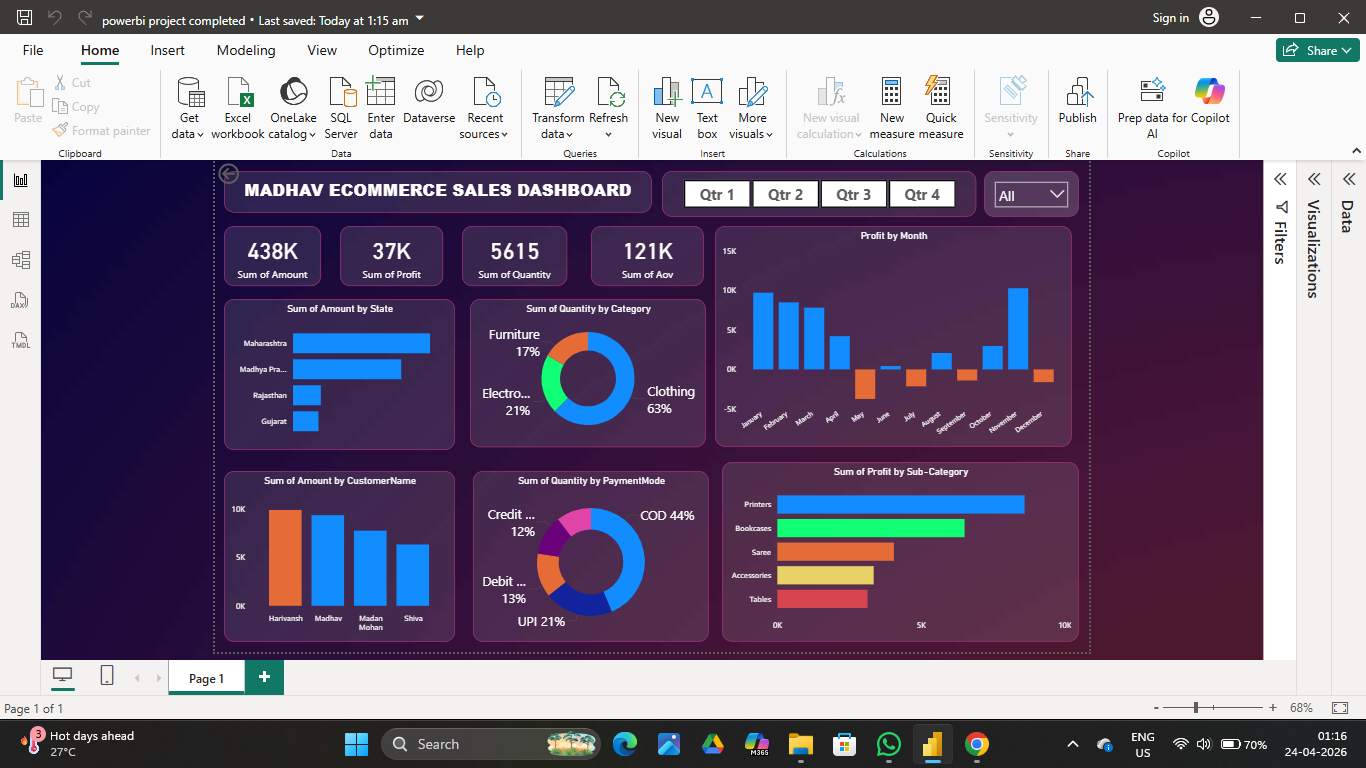

Layout of this report page (visuals, bound fields, positions):
{"tool":"powerbi","page":{"name":"Page 1","canvas":[1280,720],"ordinal":0},"visuals":[{"type":"textbox","box":[13.2,16.1,626.3,61.5],"z":0},{"type":"columnChart","title":"Profit by Month","fields":{"Category":["Orders.Order Date.Variation.Date Hierarchy.Month"],"Y":["Sum(Details.Profit)"]},"box":[732,97,522.1,322.8],"z":1000},{"type":"barChart","fields":{"Category":["Details.Sub-Category"],"Y":["Sum(Details.Profit)"]},"box":[742,442,522.4,263.4],"z":2000},{"type":"donutChart","fields":{"Category":["Details.Category"],"Y":["Sum(Details.Quantity)"]},"box":[373.2,203.4,345.4,216.6],"z":3000},{"type":"donutChart","fields":{"Category":["Details.PaymentMode","Details.Category"],"Y":["Sum(Details.Quantity)"]},"box":[377.6,455.1,345.4,250.2],"z":4000},{"type":"card","fields":{"Values":["Sum(Details.Amount)"]},"box":[13.2,96.6,142,87.8],"z":5000},{"type":"card","fields":{"Values":["Sum(Details.Quantity)"]},"box":[361.5,96.6,153.7,87.8],"z":6000},{"type":"card","fields":{"Values":["Sum(Details.Profit)"]},"box":[182.9,96.6,150.7,87.8],"z":7000},{"type":"card","fields":{"Values":["Sum(Details.Aov)"]},"box":[550.2,96.6,165.4,87.8],"z":8000},{"type":"actionButton","box":[0,0,100,40],"z":9000},{"type":"barChart","fields":{"Category":["Orders.State"],"Y":["Sum(Details.Amount)"]},"box":[13.2,203.4,338,221],"z":10000},{"type":"columnChart","fields":{"Category":["Orders.CustomerName"],"Y":["Sum(Details.Amount)"]},"box":[13.2,455.1,338,250.2],"z":11000},{"type":"slicer","fields":{"Values":["Orders.Order Date.Variation.Date Hierarchy.Quarter"]},"box":[654.1,16.1,459.5,67.3],"z":12000},{"type":"slicer","fields":{"Values":["Orders.State"]},"box":[1125.4,16.1,139,67.3],"z":13000}]}

Visuals, with their boxes on the page's 1280x720 design canvas (x1, y1, x2, y2). These are canvas units, not pixel positions in the 1366x768 screenshot, which may show the page scaled, cropped or inside an application window:
textbox: (x1=13, y1=16, x2=640, y2=78)
"Profit by Month" columnChart: (x1=732, y1=97, x2=1254, y2=420)
barChart - Details.Sub-Category x Sum(Details.Profit): (x1=742, y1=442, x2=1264, y2=705)
donutChart - Details.Category x Sum(Details.Quantity): (x1=373, y1=203, x2=719, y2=420)
donutChart - Details.PaymentMode x Details.Category: (x1=378, y1=455, x2=723, y2=705)
card - Sum(Details.Amount): (x1=13, y1=97, x2=155, y2=184)
card - Sum(Details.Quantity): (x1=362, y1=97, x2=515, y2=184)
card - Sum(Details.Profit): (x1=183, y1=97, x2=334, y2=184)
card - Sum(Details.Aov): (x1=550, y1=97, x2=716, y2=184)
actionButton: (x1=0, y1=0, x2=100, y2=40)
barChart - Orders.State x Sum(Details.Amount): (x1=13, y1=203, x2=351, y2=424)
columnChart - Orders.CustomerName x Sum(Details.Amount): (x1=13, y1=455, x2=351, y2=705)
slicer - Orders.Order Date.Variation.Date Hierarchy.Quarter: (x1=654, y1=16, x2=1114, y2=83)
slicer - Orders.State: (x1=1125, y1=16, x2=1264, y2=83)
